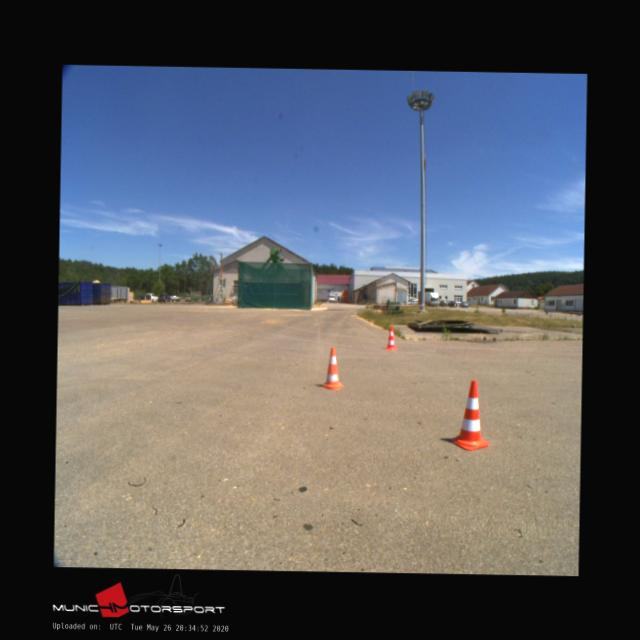large_orange_cone: (450, 380, 489, 449), (320, 348, 342, 390), (384, 326, 396, 348)
